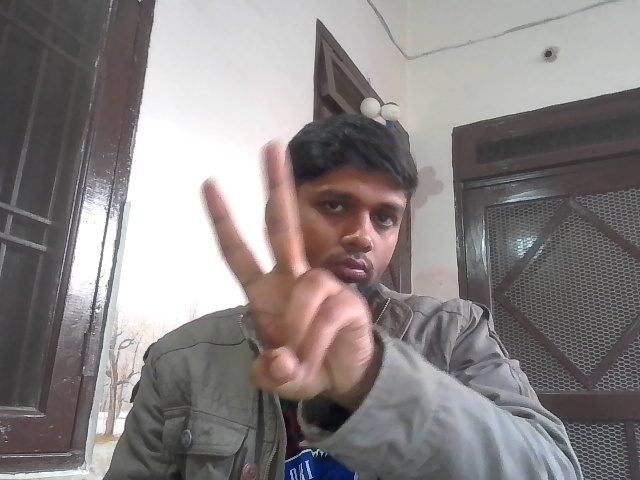Enjoy: (190, 133, 378, 406)
